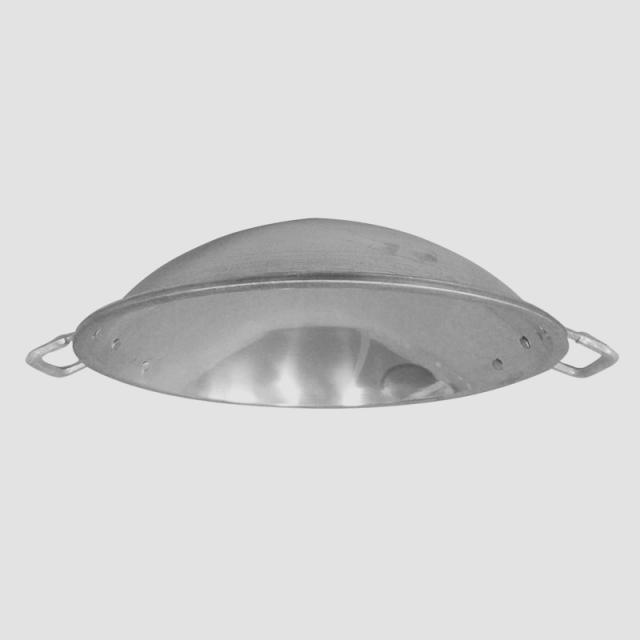Wajan: (18, 200, 624, 418)
